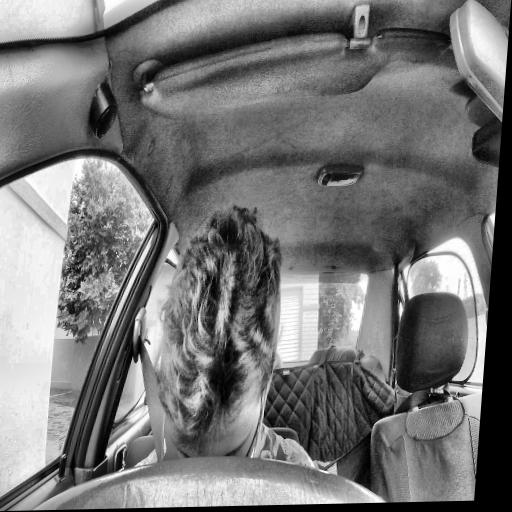drowsy: (146, 206, 291, 479)
